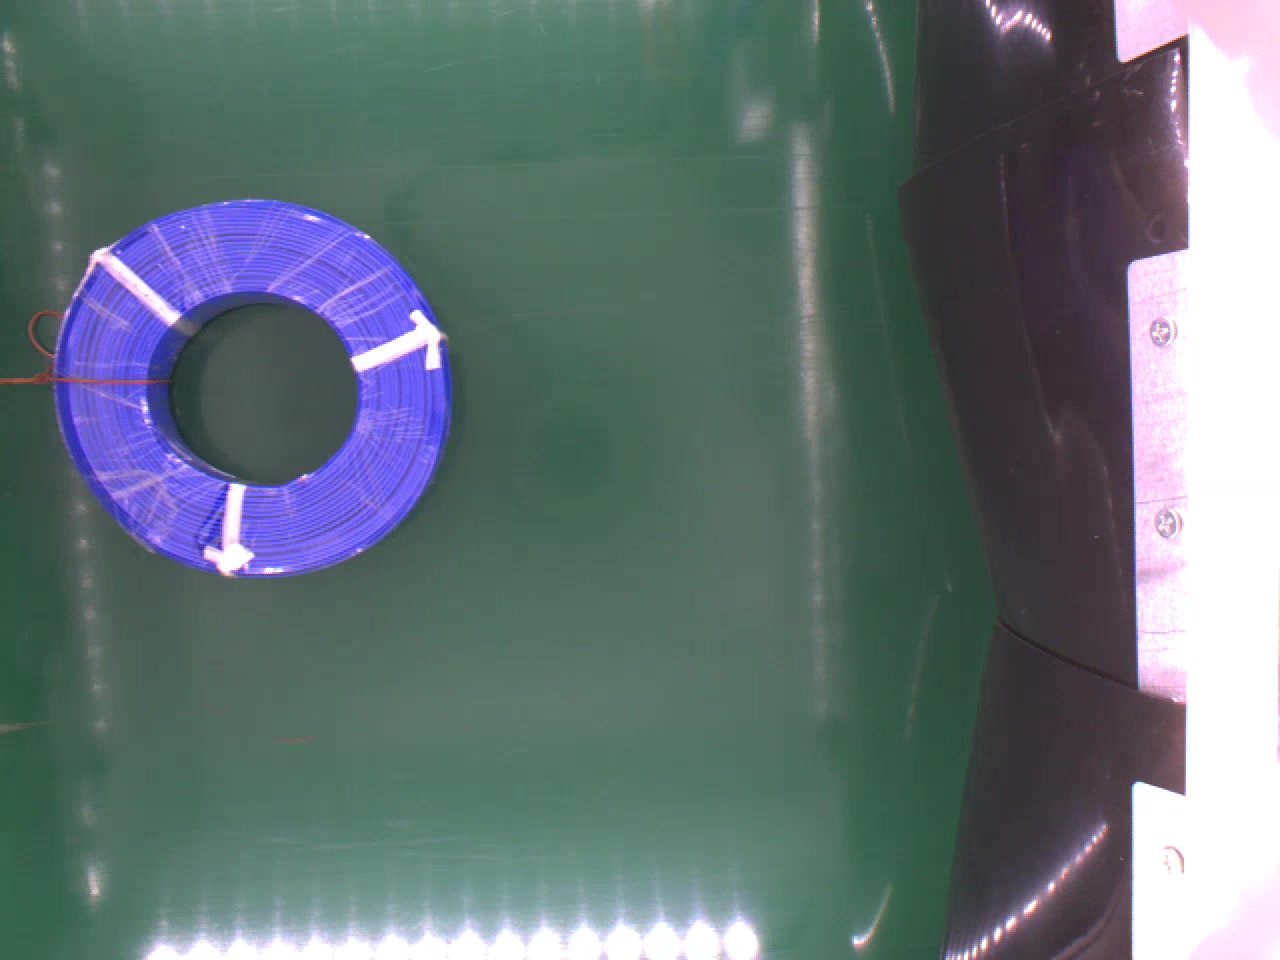blue: (56, 200, 455, 580)
